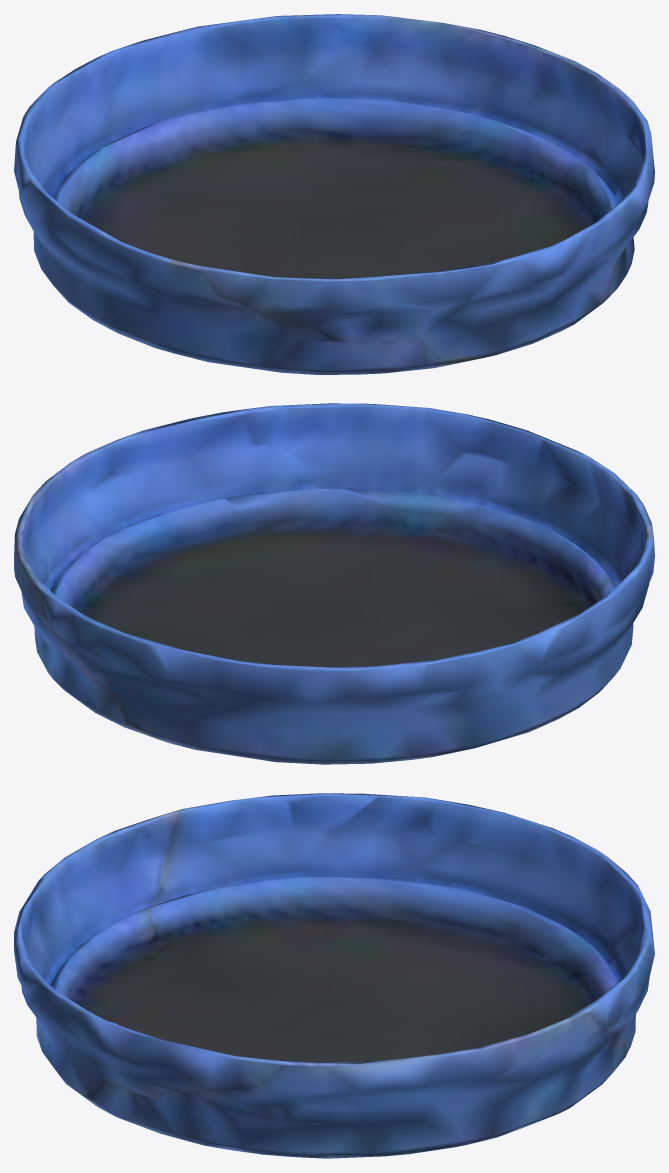
The model's file is Sea_to_Summit_Xl_Bowl-medium.glb.
3 renders of one model, top to bottom at view 1: azimuth 30°, elevation 25°; view 2: azimuth 150°, elevation 25°; view 3: azimuth 270°, elevation 25°, orthographic.
Visible parts, largest first — view 1: Sea_to_Summit_Xl_Bowl; view 2: Sea_to_Summit_Xl_Bowl; view 3: Sea_to_Summit_Xl_Bowl.
Part boxes in pixels (bbox=[...]): Sea_to_Summit_Xl_Bowl: bbox=[14, 14, 654, 374]; Sea_to_Summit_Xl_Bowl: bbox=[14, 403, 654, 764]; Sea_to_Summit_Xl_Bowl: bbox=[14, 793, 654, 1158].
Size of the model in its own units: 0.1801 by 0.0354 by 0.1802.
Materials: 1 (1 with a texture image).
